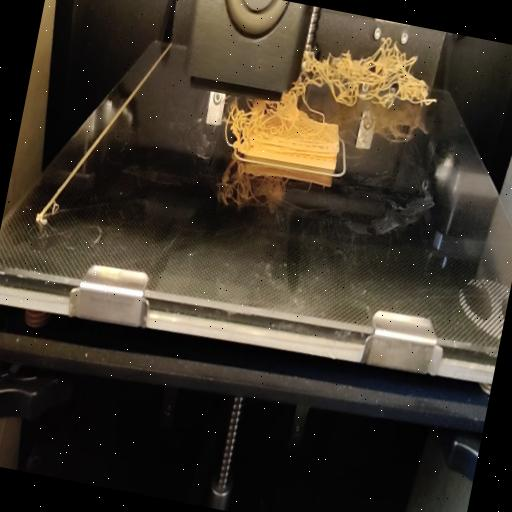spaghetti: (294, 24, 448, 121), (216, 94, 320, 157)
